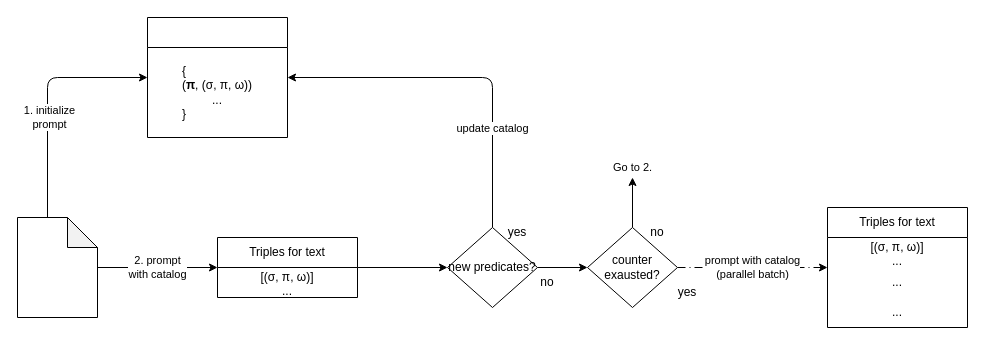
The diagram is 985 pixels wide and 345 high, and some of its shapes have lost their labels. Each missing label, with the box of its shape:
Predicate-example catalog: (146, 16, 288, 138)
reference texts: (16, 216, 98, 318)
